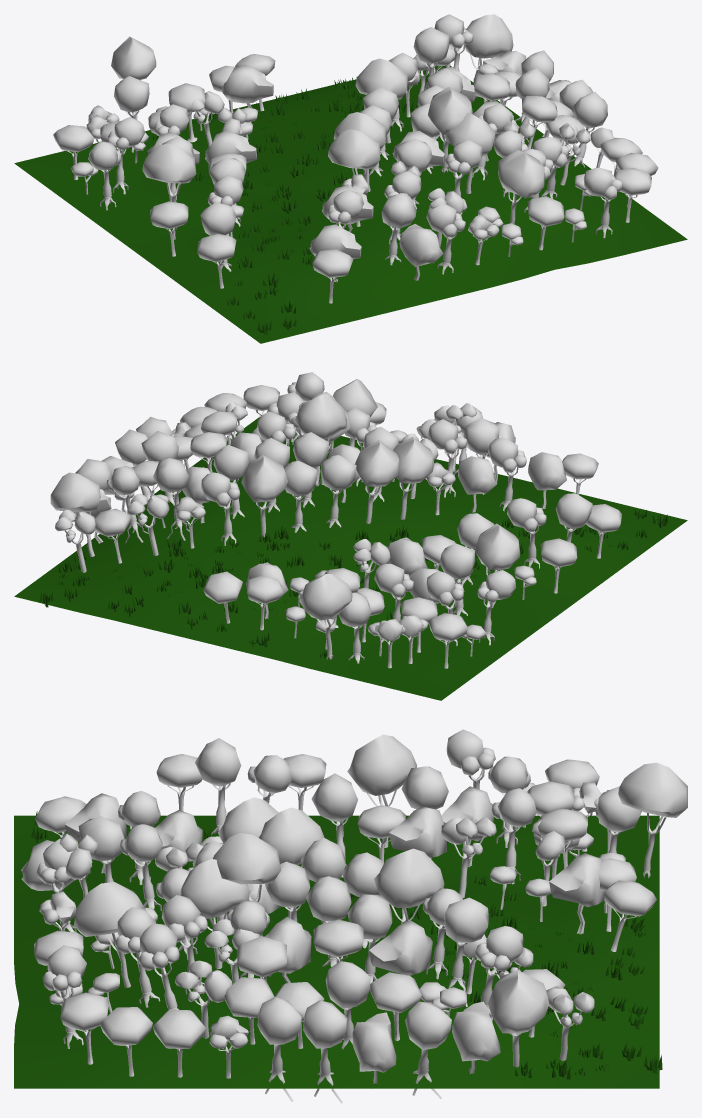
File: Forest3.fbx
3 renders of one model, top to bottom at view 1: azimuth 30°, elevation 25°; view 2: azimuth 150°, elevation 25°; view 3: azimuth 270°, elevation 25°, orthographic. The views are drawn at different scales.
Parts seen in each view (by area): view 1: Mountain007, Tree2_140, Tree2_143, Tree2_137, Tree2_132, Tree2_146, Tree268, Tree2_134, Tree2_147, Tree296, Tree2_141, Tree297 (+49 smaller); view 2: Mountain007, Tree2_147, Tree2_134, Tree2_133, Tree2_146, Tree2_137, Tree2_132, Tree2_143, Tree278, Tree276, Tree280, Tree274 (+54 smaller); view 3: Mountain007, Tree2_147, Tree2_137, Tree2_134, Tree2_143, Tree2_140, Tree2_146, Tree2_141, Tree304, Tree2_133, Tree268, Tree283 (+68 smaller).
Boxes of the visible parts, bbox=[...] form: Mountain007: bbox=[14, 65, 687, 343]; Tree2_140: bbox=[498, 150, 544, 223]; Tree2_143: bbox=[142, 143, 196, 202]; Tree2_137: bbox=[463, 14, 513, 98]; Tree2_132: bbox=[328, 129, 380, 177]; Tree2_146: bbox=[428, 87, 472, 173]; Tree268: bbox=[221, 64, 273, 123]; Tree2_134: bbox=[355, 58, 407, 143]; Tree2_147: bbox=[111, 36, 156, 119]; Tree296: bbox=[399, 224, 443, 280]; Tree2_141: bbox=[444, 113, 495, 193]; Tree297: bbox=[381, 193, 416, 265]; Mountain007: bbox=[14, 417, 687, 700]; Tree2_147: bbox=[299, 574, 352, 659]; Tree2_134: bbox=[241, 454, 287, 536]; Tree2_133: bbox=[355, 440, 399, 523]; Tree2_146: bbox=[294, 394, 347, 486]; Tree2_137: bbox=[50, 472, 100, 556]; Tree2_132: bbox=[393, 436, 434, 519]; Tree2_143: bbox=[475, 523, 519, 608]; Tree278: bbox=[320, 455, 356, 527]; Tree276: bbox=[458, 456, 496, 512]; Tree280: bbox=[201, 472, 240, 545]; Tree274: bbox=[528, 452, 566, 508]; Mountain007: bbox=[14, 815, 659, 1088]; Tree2_147: bbox=[618, 762, 687, 878]; Tree2_137: bbox=[488, 970, 549, 1067]; Tree2_134: bbox=[374, 848, 444, 924]; Tree2_143: bbox=[347, 734, 416, 847]; Tree2_140: bbox=[74, 882, 145, 987]; Tree2_146: bbox=[212, 833, 280, 901]; Tree2_141: bbox=[179, 859, 249, 968]; Tree304: bbox=[369, 920, 432, 975]; Tree2_133: bbox=[258, 807, 324, 918]; Tree268: bbox=[549, 853, 604, 934]; Tree283: bbox=[452, 1001, 500, 1073].
Size of the model in its own units: 989 by 276 by 967.
